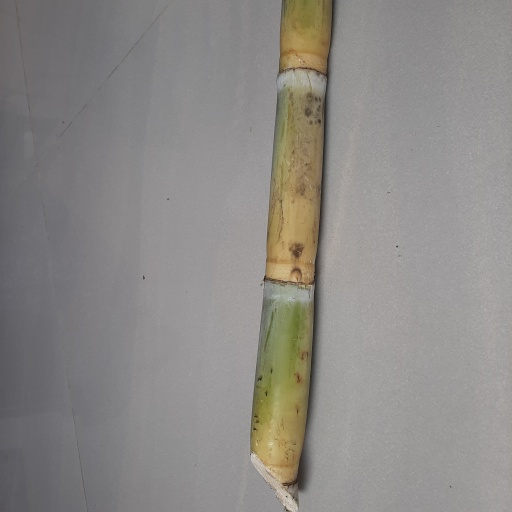Bud: (288, 267, 303, 284)
